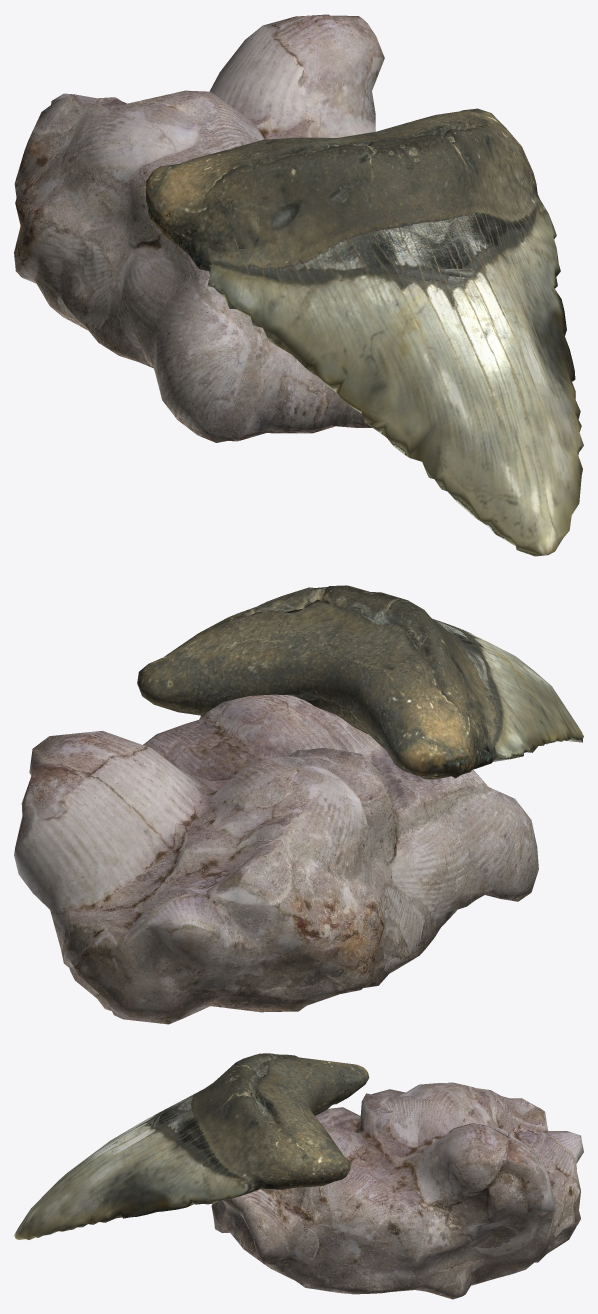
3 renders of one model, top to bottom at view 1: azimuth 30°, elevation 25°; view 2: azimuth 150°, elevation 25°; view 3: azimuth 270°, elevation 25°, orthographic. The views are drawn at different scales.
Visible parts, largest first — view 1: combinado_fosseis; view 2: combinado_fosseis; view 3: combinado_fosseis.
Part boxes in pixels (bbox=[...]): combinado_fosseis: bbox=[14, 14, 583, 556]; combinado_fosseis: bbox=[14, 585, 583, 1024]; combinado_fosseis: bbox=[14, 1053, 583, 1299].
Bounding box in the file's own units: 0.6902 × 0.5558 × 1.46.
Materials: 2 (2 with a texture image).
